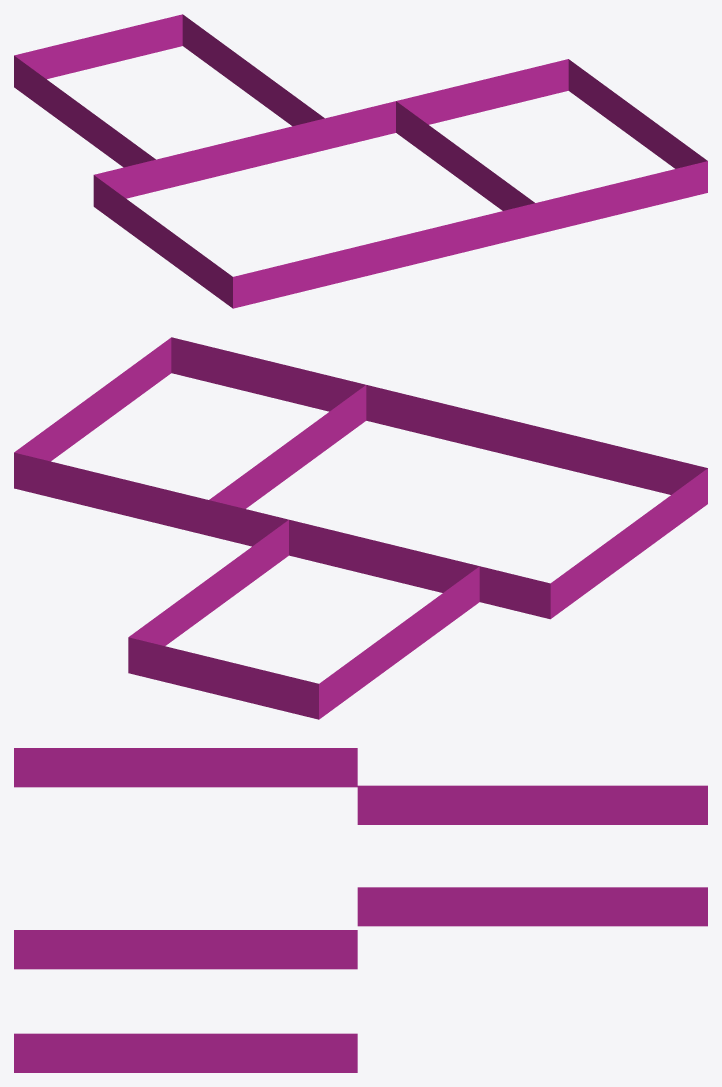
File: walls.fbx
The picture shows the model from 3 angles, top to bottom: view 1: azimuth 30°, elevation 25°; view 2: azimuth 150°, elevation 25°; view 3: azimuth 270°, elevation 25°; orthographic projection. The views are drawn at different scales.
Visible parts, largest first — view 1: playerRoom; view 2: playerRoom; view 3: playerRoom.
Part boxes in pixels (x1,y1,x2,y2): playerRoom: (14,14,707,308); playerRoom: (14,337,707,719); playerRoom: (14,748,707,1072).
Size of the model in its own units: 7165 by 459 by 7360.
